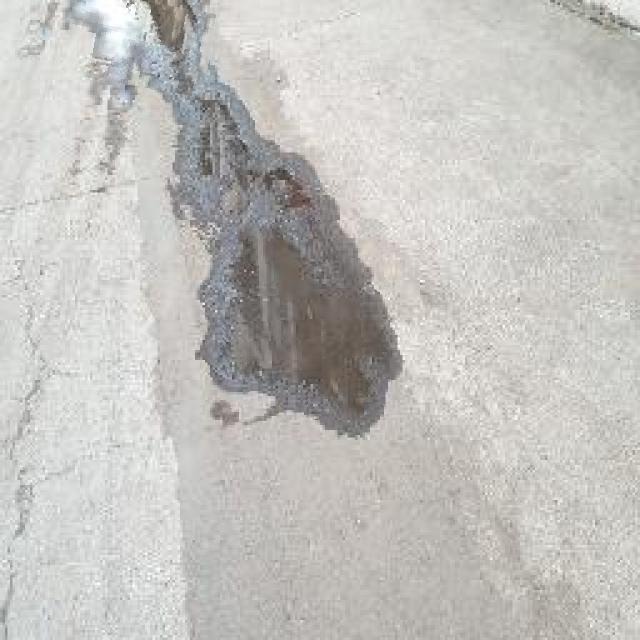puddle: (223, 222, 391, 423), (64, 1, 215, 91)
